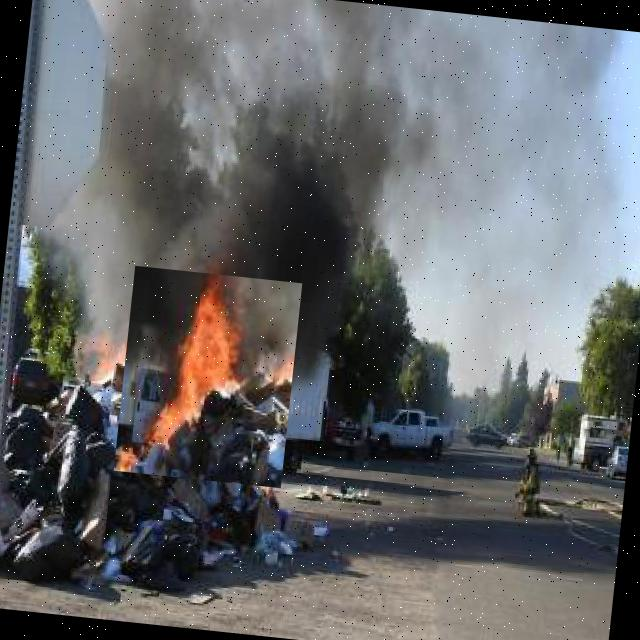fire: (113, 266, 302, 488)
